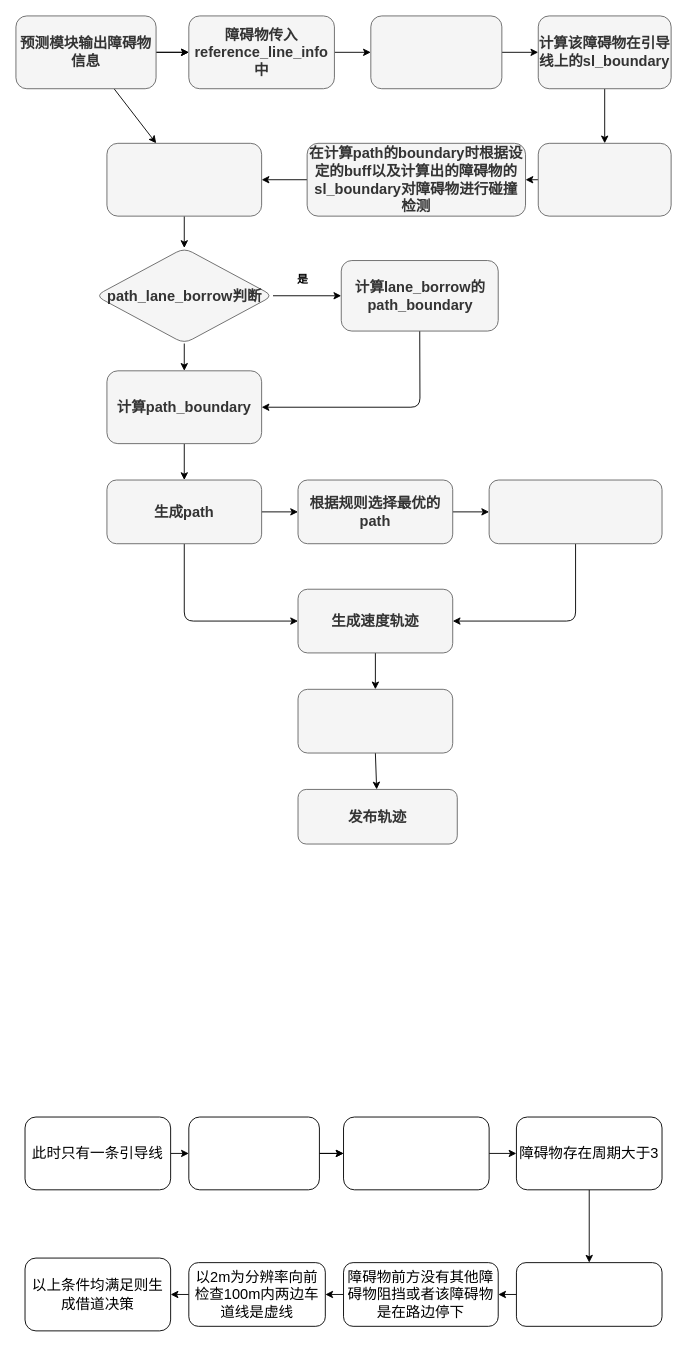
Some shapes in this 687 by 1347 pixel diagram are drawn without their labels. Each missing label, with the box of its shape:
得到阻挡本本车道的障碍物信息: (106, 142, 262, 216)
根据reference_line_info规划轨迹: (537, 142, 671, 216)
根据地图以及path的kappa值限速: (488, 479, 662, 544)
测试车辆的速度小于5m/s: (188, 1116, 319, 1190)
综合path与速度轨迹生成轨迹: (297, 688, 453, 753)
计算该障碍物的is_static属性: (370, 15, 502, 89)
障碍物周围20m内不存在signal以及stop_sign区域: (343, 1116, 489, 1190)
障碍物在终点前且与测试车辆之间的距离小于35m: (516, 1262, 662, 1326)
